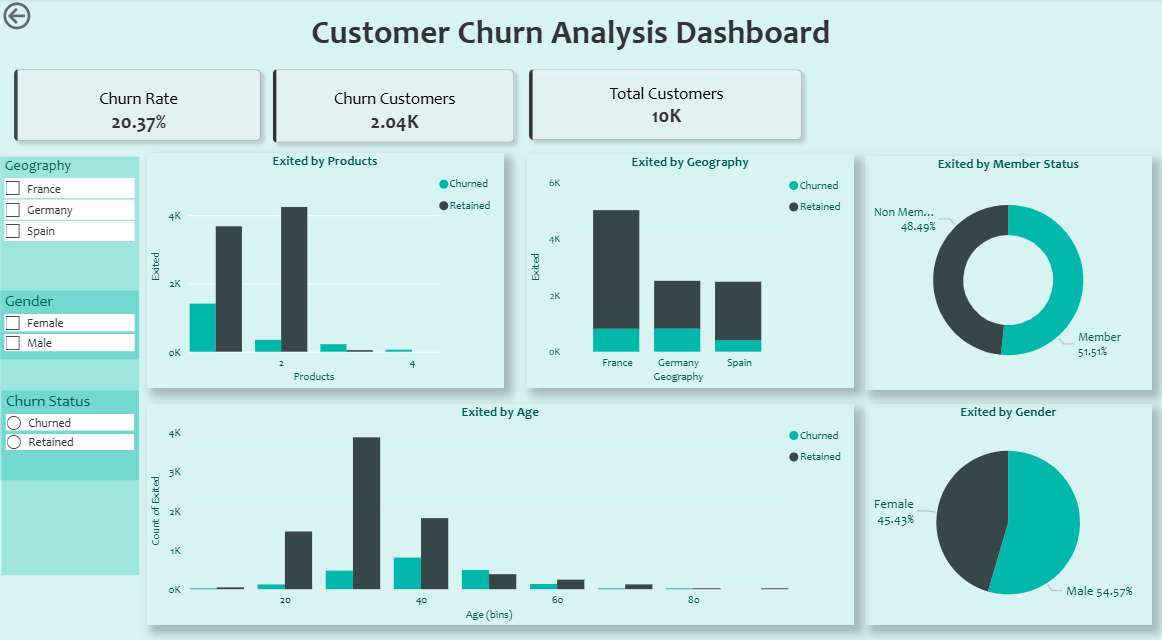

The page's visual inventory and layout, read from the dashboard file:
{"tool":"powerbi","page":{"name":"Page 1","canvas":[1303,720],"ordinal":0},"visuals":[{"type":"cardVisual","fields":{"Data":["CountNonNull(cleaned_churn (2).CreditScore)"]},"box":[575.5,62.9,339.4,113.1],"z":0},{"type":"actionButton","box":[0,0,100,40],"z":1000},{"type":"cardVisual","fields":{"Data":["Sum(cleaned_churn (2).Exited)"]},"box":[289.2,62.7,304.5,116.2],"z":2000},{"type":"cardVisual","fields":{"Data":["cleaned_churn (2).Churn Rate"]},"box":[0.6,62.7,310.6,114.9],"z":3000},{"type":"columnChart","title":"Exited by Geography","fields":{"Category":["cleaned_churn (2).Geography"],"Y":["CountNonNull(cleaned_churn (2).Exited)"],"Series":["cleaned_churn (2).Churn Status"]},"box":[589.2,174.9,365.7,261.2],"z":4000},{"type":"donutChart","title":"Exited by Member Status","fields":{"Category":["cleaned_churn (2).Member Status"],"Y":["CountNonNull(cleaned_churn (2).Churn Status)"]},"box":[968,175.4,319.9,261.2],"z":5000},{"type":"clusteredColumnChart","title":"Exited by Age","fields":{"Category":["cleaned_churn (2).Age (bins)"],"Y":["CountNonNull(cleaned_churn (2).Exited)"],"Series":["cleaned_churn (2).Churn Status"]},"box":[164.8,453.4,790.6,247.2],"z":6000},{"type":"clusteredColumnChart","title":"Exited by Products","fields":{"Category":["cleaned_churn (2).NumOfProducts"],"Y":["CountNonNull(cleaned_churn (2).Exited)"],"Series":["cleaned_churn (2).Churn Status"]},"box":[165.5,173.4,399,262.6],"z":7000},{"type":"pieChart","title":"Exited by Gender","fields":{"Category":["cleaned_churn (2).Gender"],"Y":["CountNonNull(cleaned_churn (2).Exited)"]},"box":[968,453.4,319.9,247.2],"z":8000},{"type":"listSlicer","fields":{"Values":["cleaned_churn (2).Geography"]},"box":[1.4,176.8,155.1,226.3],"z":9000},{"type":"listSlicer","fields":{"Values":["cleaned_churn (2).Gender"]},"box":[1.4,326.3,155.1,212.3],"z":10000},{"type":"listSlicer","fields":{"Values":["cleaned_churn (2).Churn Status"]},"box":[2.8,438.1,153.7,206.7],"z":11000},{"type":"textbox","box":[310.1,9.8,657.9,67],"z":12000}]}

Visuals, with their boxes in screenshot pixels (x1, y1, x2, y2), scaled from the page's 1303x720 canvas onto the 1162x640 screenshot:
cardVisual - CountNonNull(cleaned_churn (2).CreditScore): [x1=513, y1=56, x2=816, y2=156]
actionButton: [x1=0, y1=0, x2=89, y2=36]
cardVisual - Sum(cleaned_churn (2).Exited): [x1=258, y1=56, x2=529, y2=159]
cardVisual - cleaned_churn (2).Churn Rate: [x1=1, y1=56, x2=278, y2=158]
"Exited by Geography" columnChart: [x1=525, y1=155, x2=852, y2=388]
"Exited by Member Status" donutChart: [x1=863, y1=156, x2=1149, y2=388]
"Exited by Age" clusteredColumnChart: [x1=147, y1=403, x2=852, y2=623]
"Exited by Products" clusteredColumnChart: [x1=148, y1=154, x2=503, y2=388]
"Exited by Gender" pieChart: [x1=863, y1=403, x2=1149, y2=623]
listSlicer - cleaned_churn (2).Geography: [x1=1, y1=157, x2=140, y2=358]
listSlicer - cleaned_churn (2).Gender: [x1=1, y1=290, x2=140, y2=479]
listSlicer - cleaned_churn (2).Churn Status: [x1=2, y1=389, x2=140, y2=573]
textbox: [x1=277, y1=9, x2=863, y2=68]
